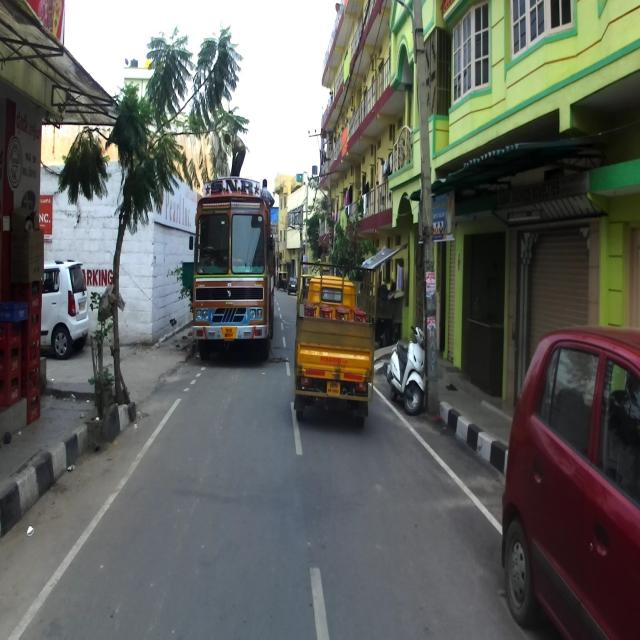autorickshaw: (294, 258, 377, 426), (277, 270, 288, 290)
car: (500, 325, 640, 639), (39, 258, 89, 360), (287, 276, 298, 295)
scooter: (386, 325, 426, 414)
truck: (191, 171, 275, 361)
